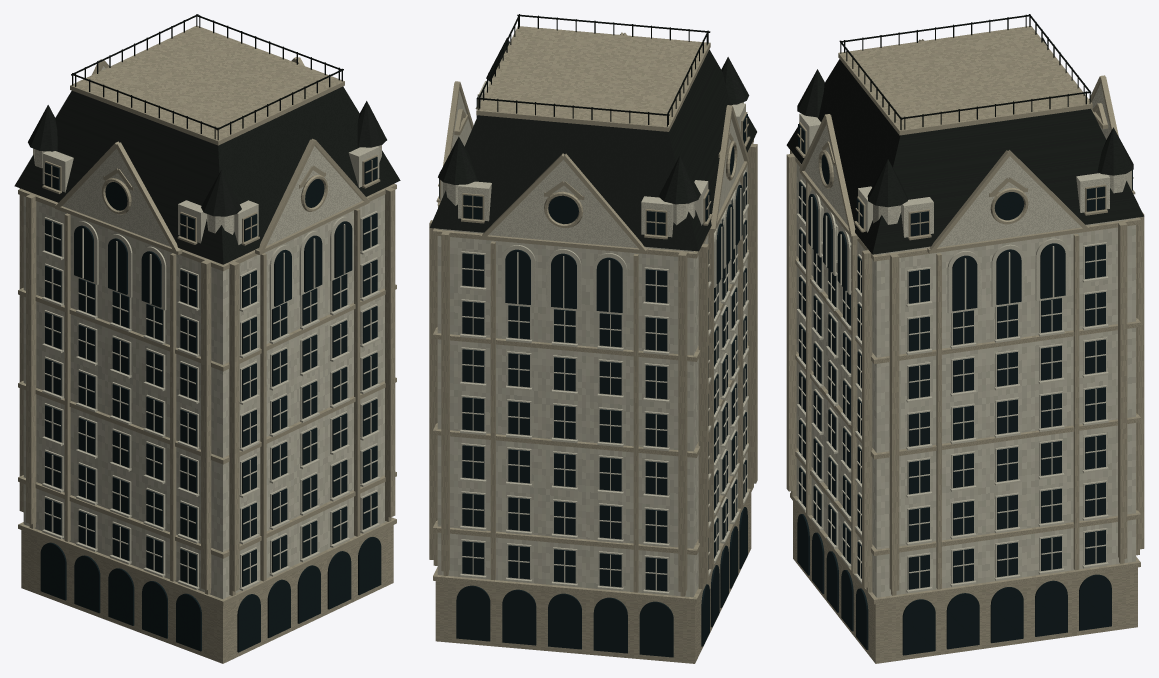
3 renders of one model, left to right at view 1: azimuth 30°, elevation 25°; view 2: azimuth 150°, elevation 25°; view 3: azimuth 270°, elevation 25°, orthographic. The views are drawn at different scales.
Visible parts, largest first — view 1: witte-huis-0, witte-huis-1, witte-huis-2, witte-huis-3, witte-huis-4; view 2: witte-huis-0, witte-huis-1, witte-huis-2, witte-huis-3, witte-huis-4; view 3: witte-huis-0, witte-huis-1, witte-huis-2, witte-huis-3, witte-huis-4.
Boxes of the visible parts, x1,y1,x2,y2 form: witte-huis-0: (23,66,386,598); witte-huis-1: (18,26,396,663); witte-huis-2: (40,157,381,652); witte-huis-3: (14,86,400,264); witte-huis-4: (71,14,343,140); witte-huis-0: (437,81,748,597); witte-huis-1: (429,26,757,663); witte-huis-2: (439,95,747,657); witte-huis-3: (429,37,756,251); witte-huis-4: (476,14,710,126); witte-huis-0: (796,83,1135,597); witte-huis-1: (786,26,1144,663); witte-huis-2: (797,124,1132,655); witte-huis-3: (786,38,1144,254); witte-huis-4: (839,14,1091,130).
Size of the model in its own units: 25.59 by 42.6 by 26.23.
5 materials, 5 textured.
